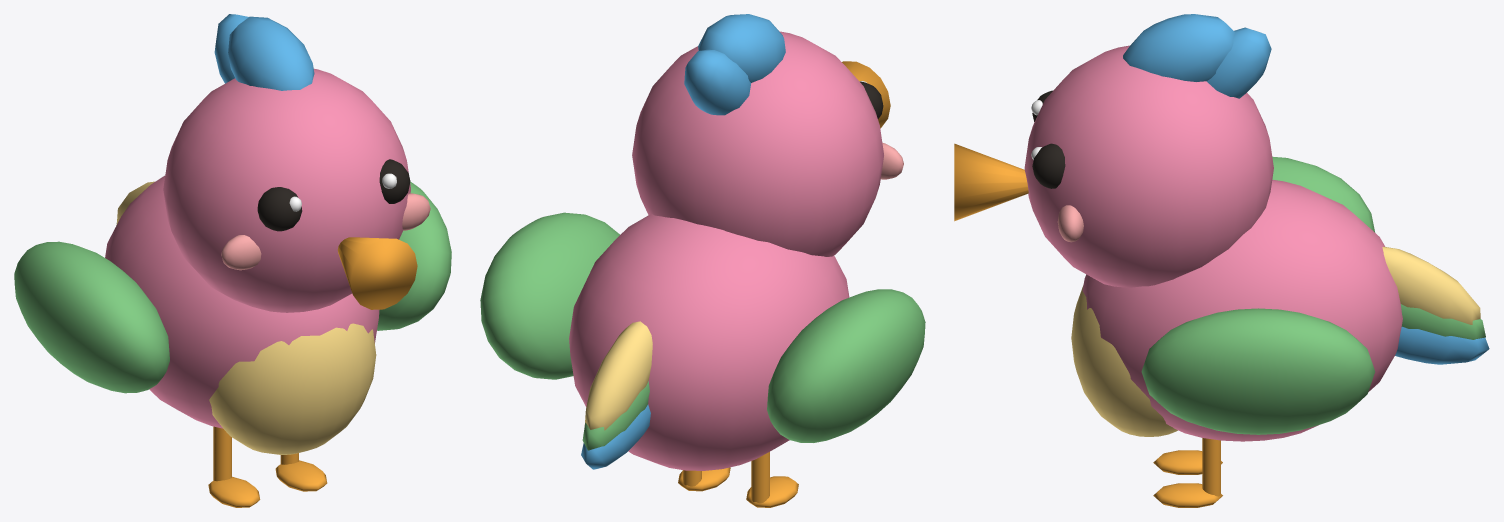
Rendered from bird.glb.
The picture shows the model from 3 angles, left to right: view 1: azimuth 30°, elevation 25°; view 2: azimuth 150°, elevation 25°; view 3: azimuth 270°, elevation 25°; orthographic projection.
Visible parts, largest first — view 1: skull, body, wingmesh-1, belly, crest, wingmesh1, beak, eye-1, foot1, foot-1, cheek-1, crest2 (+3 smaller); view 2: body, skull, wingmesh-1, wingmesh1, tailfeather2, crest, crest2, tailfeather0, tailfeather1, foot-1, beak, leg-1 (+2 smaller); view 3: skull, body, wingmesh1, belly, crest, tailfeather2, beak, crest2, wingmesh-1, tailfeather0, tailfeather1, foot1 (+4 smaller).
Boxes of the visible parts, x1,y1,x2,y2 form: skull: [163, 68, 410, 312]; body: [105, 175, 379, 428]; wingmesh-1: [14, 241, 169, 393]; belly: [209, 323, 376, 454]; crest: [228, 16, 314, 90]; wingmesh1: [377, 181, 451, 330]; beak: [337, 237, 417, 309]; eye-1: [257, 187, 302, 231]; foot1: [275, 460, 327, 491]; foot-1: [208, 476, 260, 507]; cheek-1: [221, 235, 261, 270]; crest2: [214, 14, 248, 83]; body: [569, 214, 849, 470]; skull: [632, 31, 883, 256]; wingmesh-1: [767, 289, 925, 442]; wingmesh1: [480, 212, 619, 379]; tailfeather2: [584, 321, 652, 430]; crest: [698, 14, 785, 82]; crest2: [684, 49, 751, 115]; tailfeather0: [581, 404, 650, 469]; tailfeather1: [582, 381, 649, 450]; foot-1: [746, 476, 798, 507]; beak: [842, 61, 890, 128]; leg-1: [751, 452, 769, 503]; skull: [1024, 45, 1273, 287]; body: [1082, 179, 1402, 441]; wingmesh1: [1141, 308, 1375, 434]; belly: [1071, 286, 1177, 436]; crest: [1123, 14, 1235, 81]; tailfeather2: [1382, 246, 1480, 324]; beak: [954, 143, 1028, 221]; crest2: [1206, 27, 1271, 98]; wingmesh-1: [1272, 156, 1375, 232]; tailfeather0: [1395, 326, 1489, 364]; tailfeather1: [1400, 304, 1485, 339]; foot1: [1153, 483, 1222, 507].
Bounding box in the file's own units: 0.5764 × 0.6664 × 0.6866.
